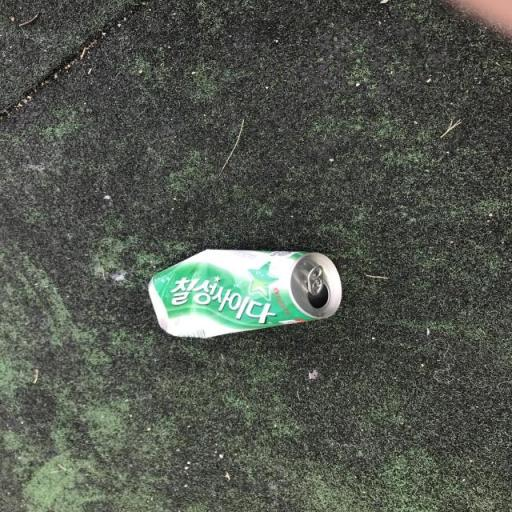metal: (120, 229, 357, 352)
